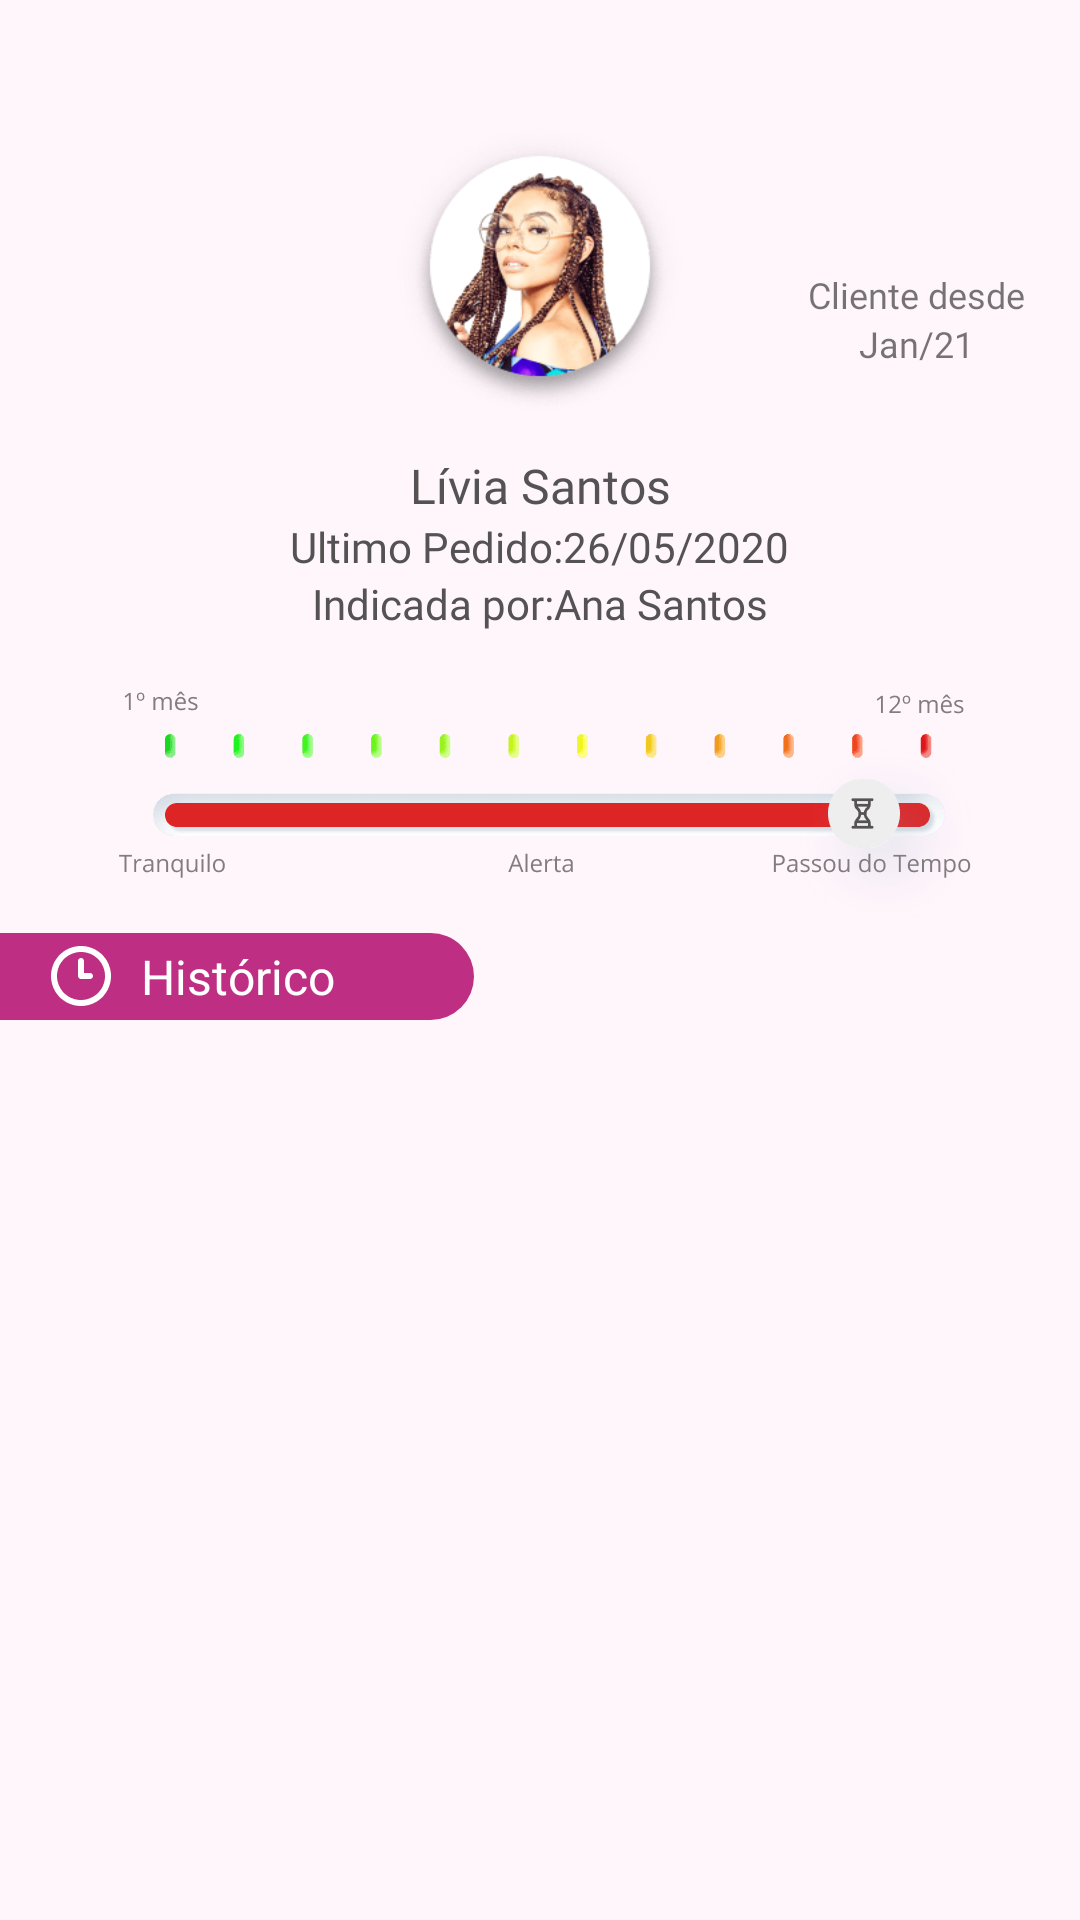

Icon click points for this 1080 × 1920 phone screenshot, format (x=x, y=y):
clock three: (x=81, y=976)
